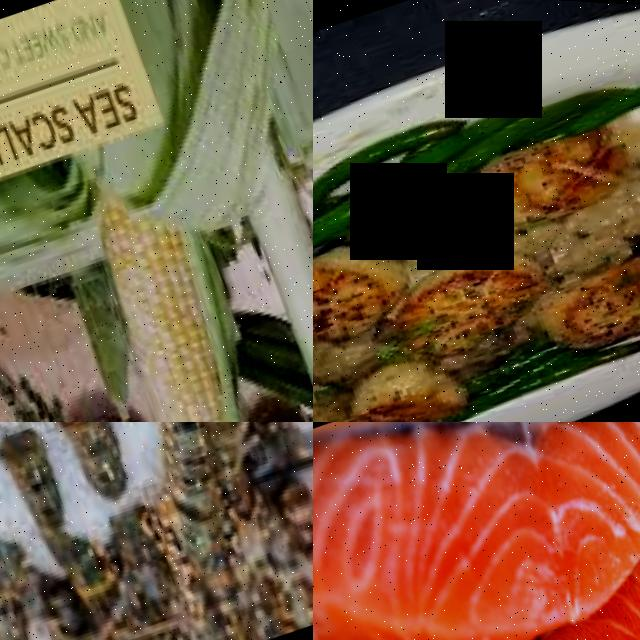salmon: (313, 422, 640, 640), (313, 540, 640, 640)
sea scallops: (475, 105, 640, 238), (399, 233, 551, 354), (313, 219, 424, 373), (537, 232, 640, 352), (337, 336, 477, 422)
